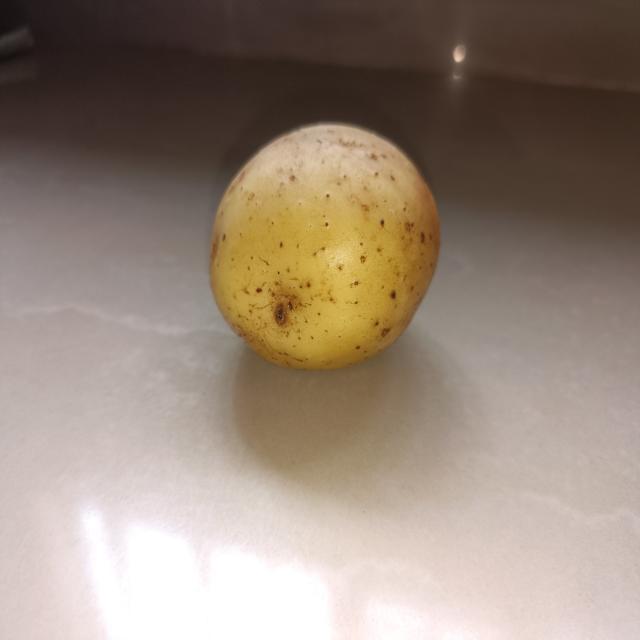potato: (203, 116, 445, 380)
